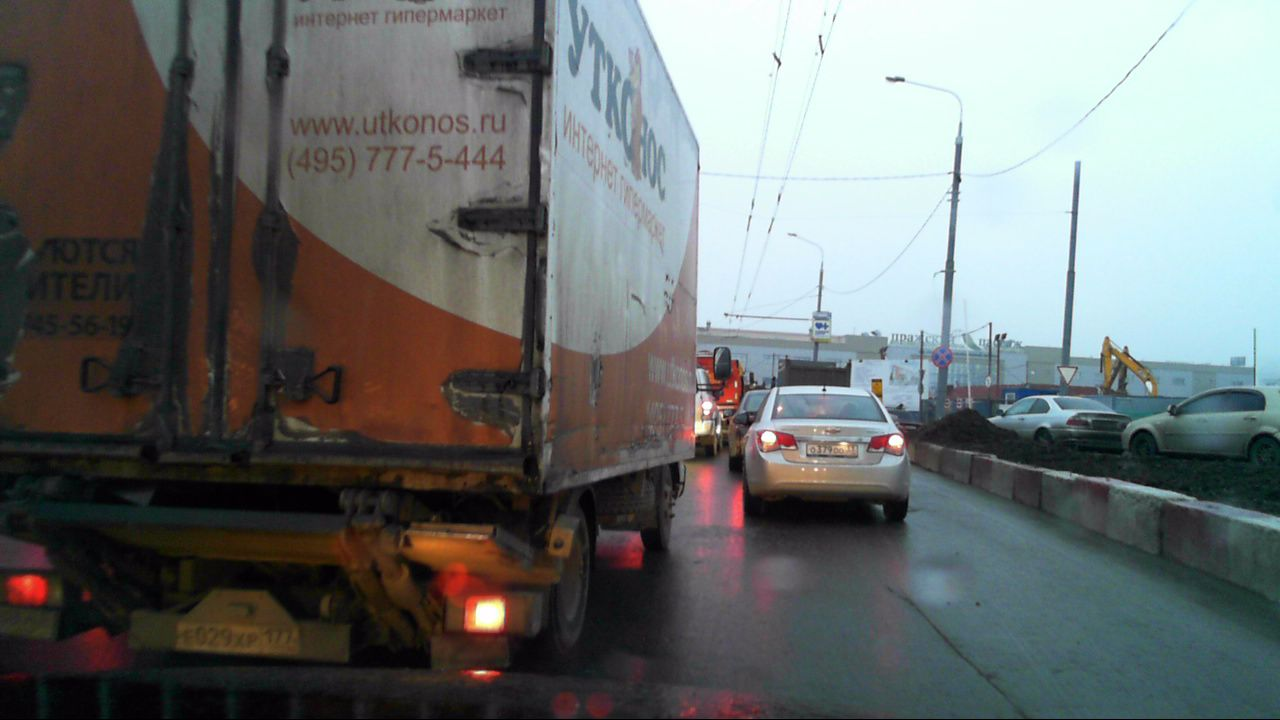No Parking: (930, 345, 953, 368)
